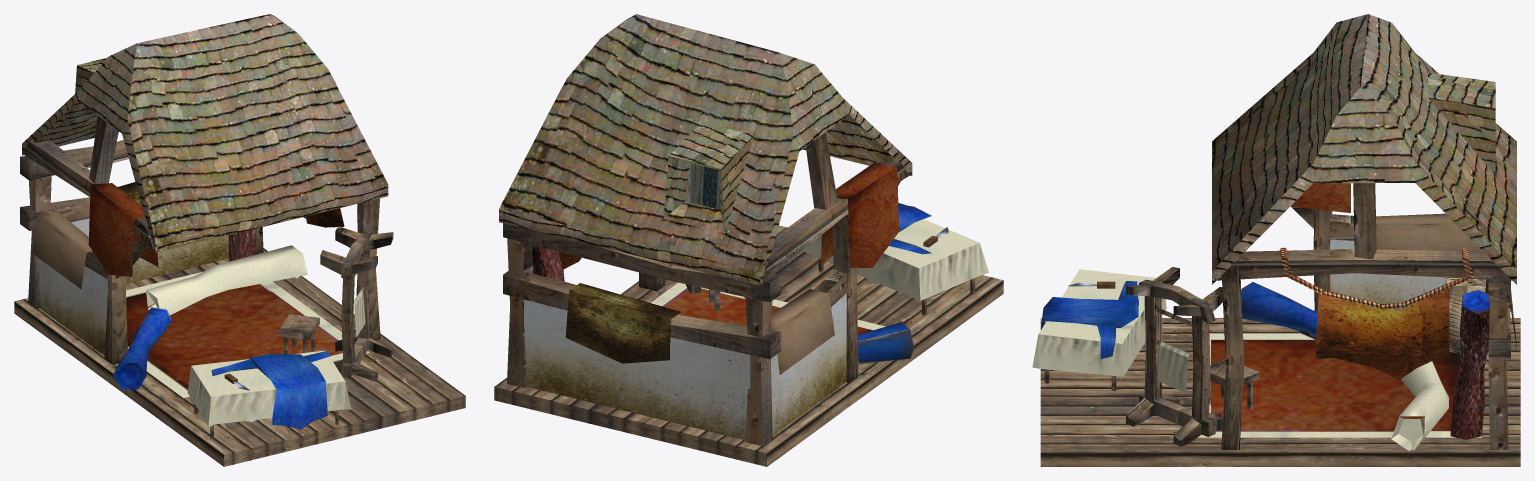
Rendered from building_workshop_weaver.glb.
3 views of the same model, side by side, from view 1: azimuth 30°, elevation 25°; view 2: azimuth 150°, elevation 25°; view 3: azimuth 270°, elevation 25° (orthographic). The views are drawn at different scales.
Parts seen in each view (by area): view 1: building_workshop_weaver; view 2: building_workshop_weaver; view 3: building_workshop_weaver.
Part boxes in pixels (<box>): building_workshop_weaver: <box>14,14,465,466</box>; building_workshop_weaver: <box>494,14,1003,466</box>; building_workshop_weaver: <box>1032,14,1520,466</box>.
Bounding box in the file's own units: 4.37 × 4.95 × 6.27.
8 materials, 8 textured.
